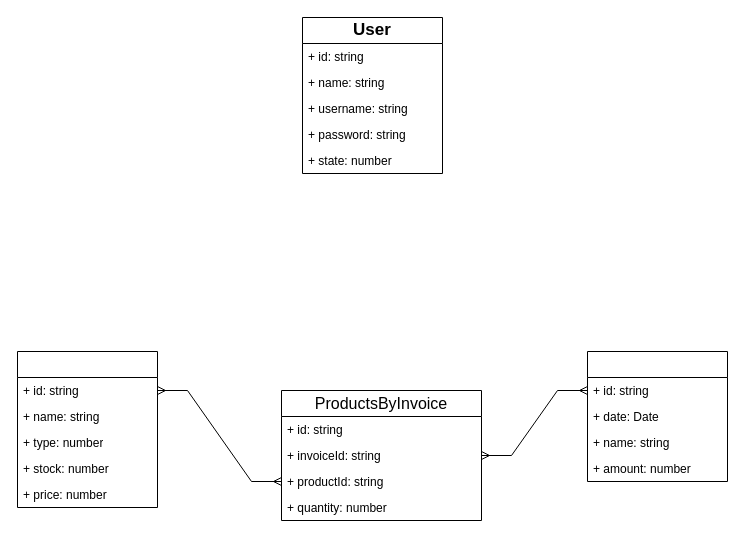
Image size: 745x541. Some labels were removed from this diagram. The shapes that lost their labels are listed below. From the top down, each one's box as (x1, y1, x2, y2) in pixels, then its label:
(16, 350, 158, 508): Product
(586, 350, 728, 482): Invoice
